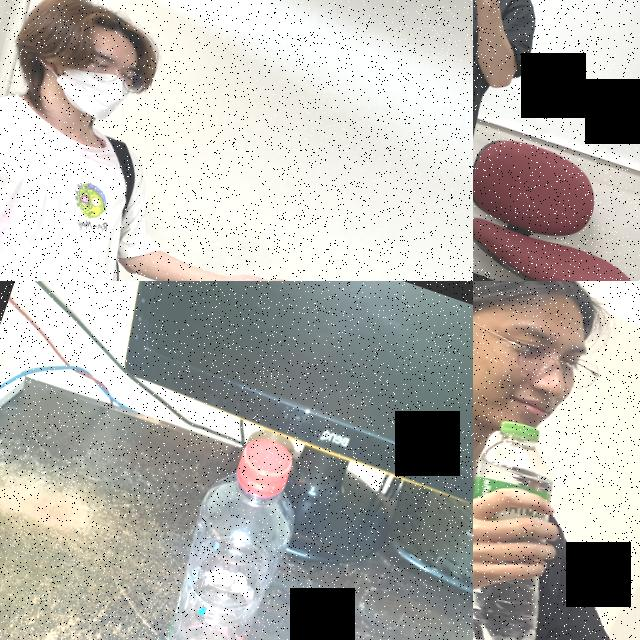bottle: (117, 422, 326, 640), (473, 406, 610, 640)
